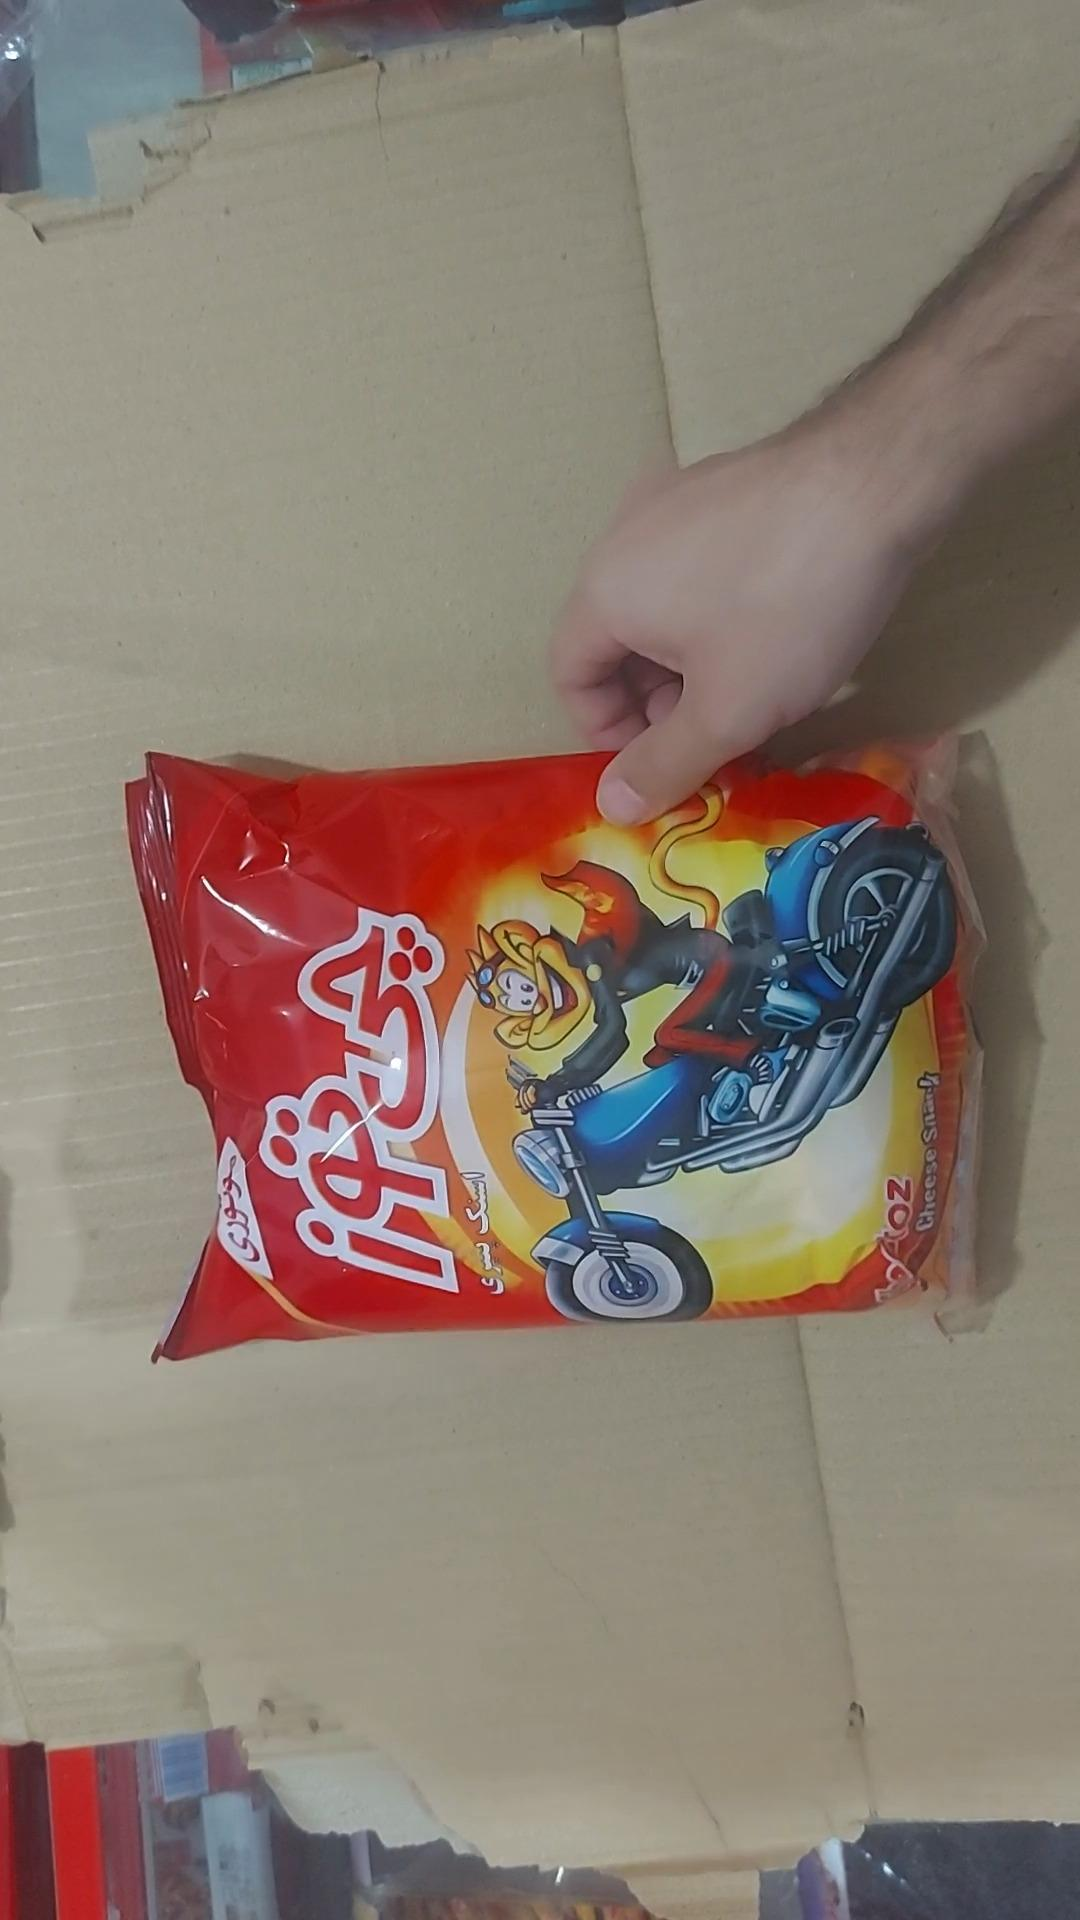Cheetoz snack 90g: (120, 744, 985, 1369)
